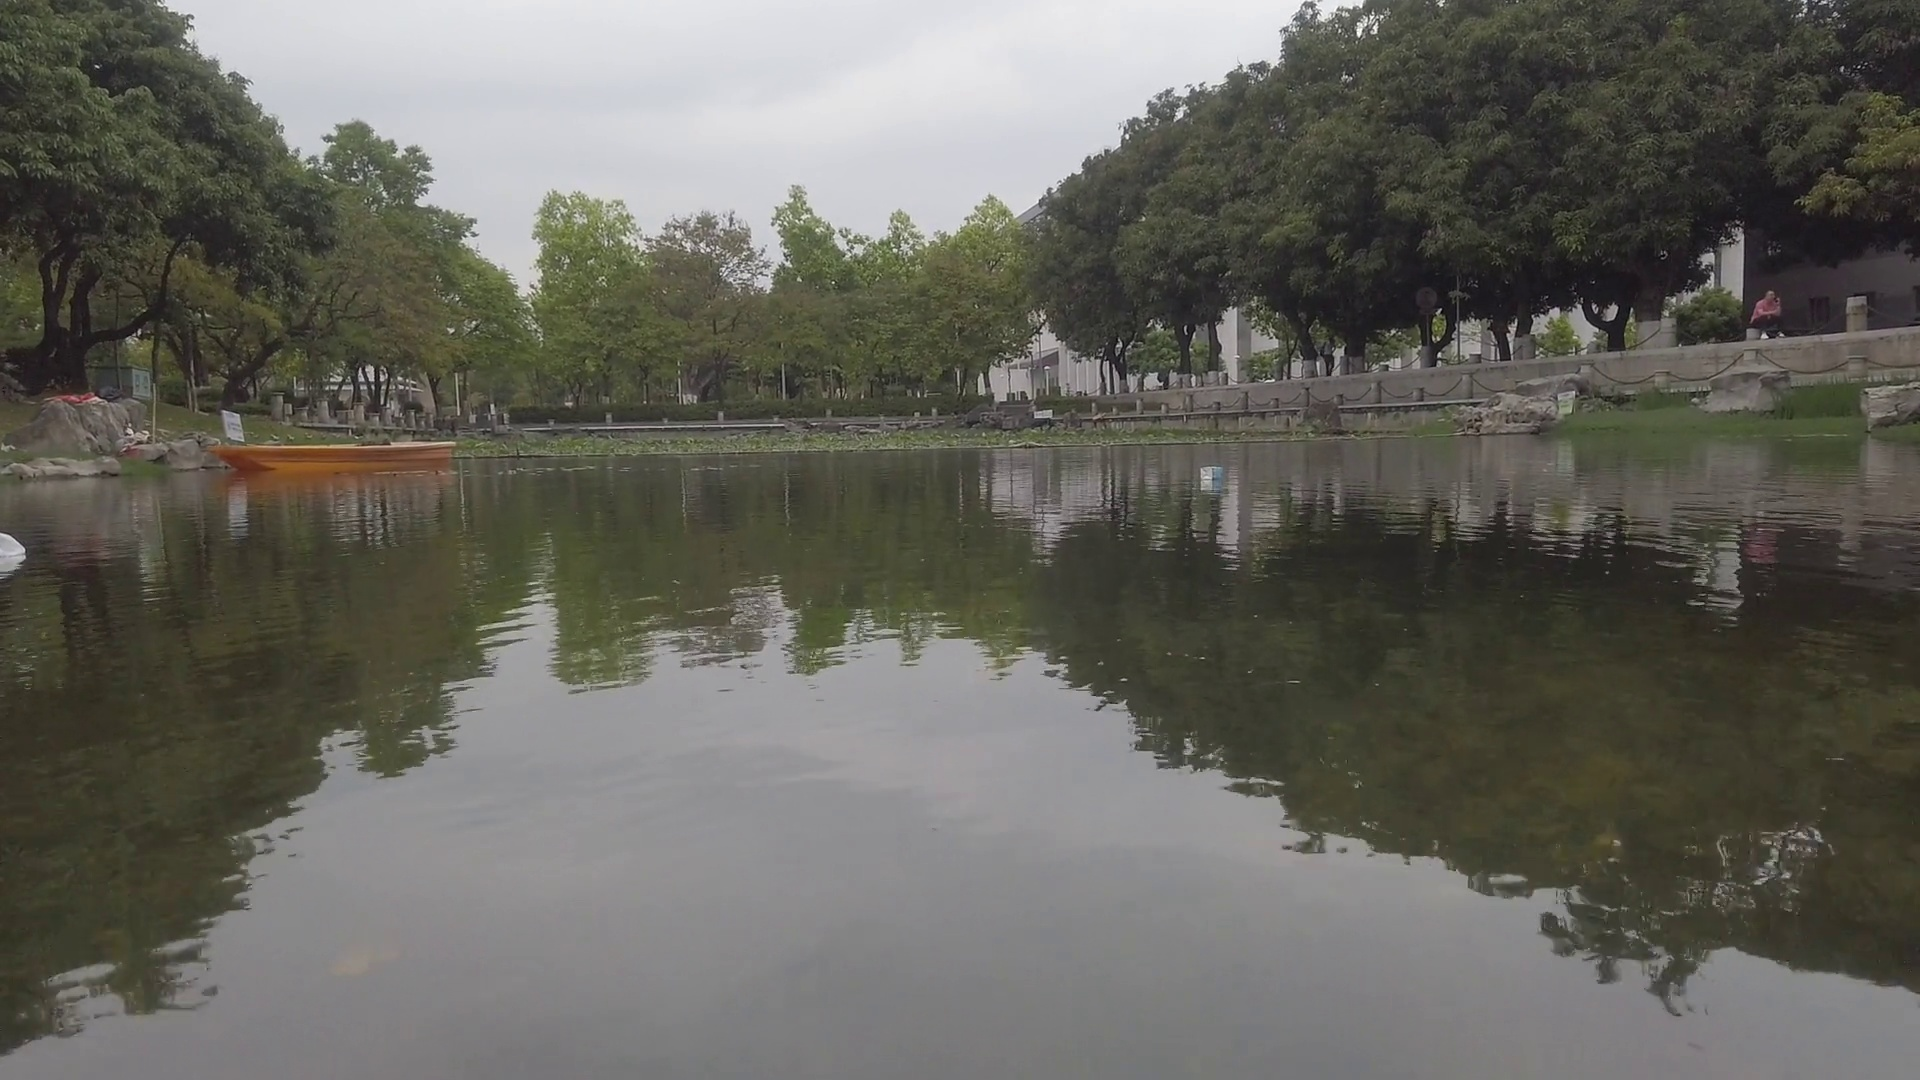carton: (1200, 464, 1222, 480)
plastic: (1, 530, 25, 563)
